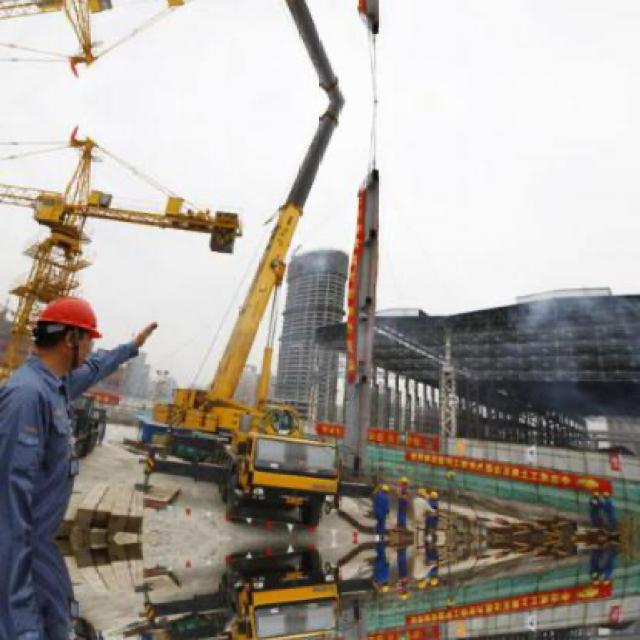helmet: (28, 290, 110, 373)
